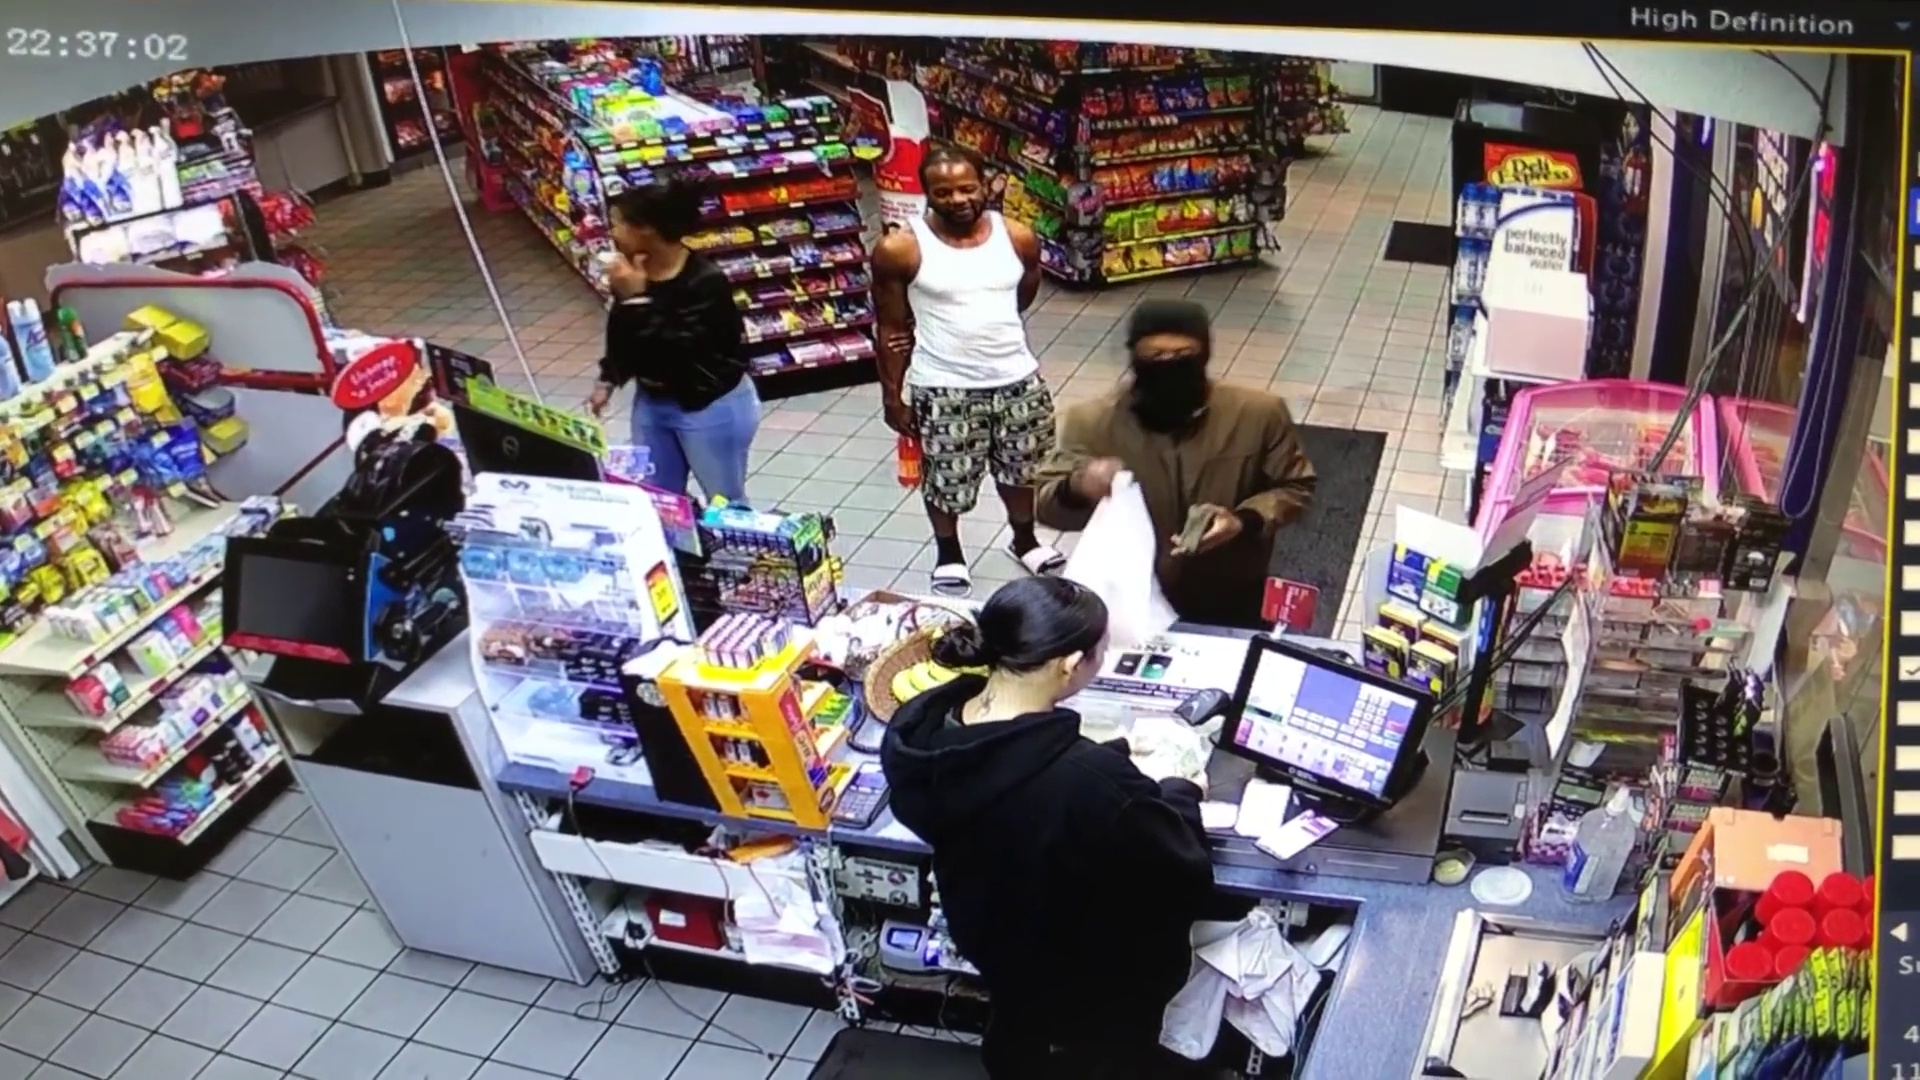face: (1136, 316, 1203, 392), (927, 164, 988, 226)
